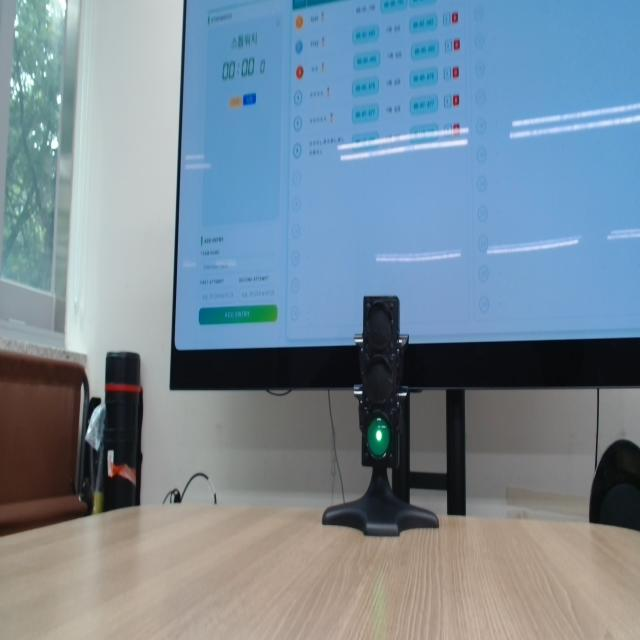green_light: (367, 417, 390, 458)
